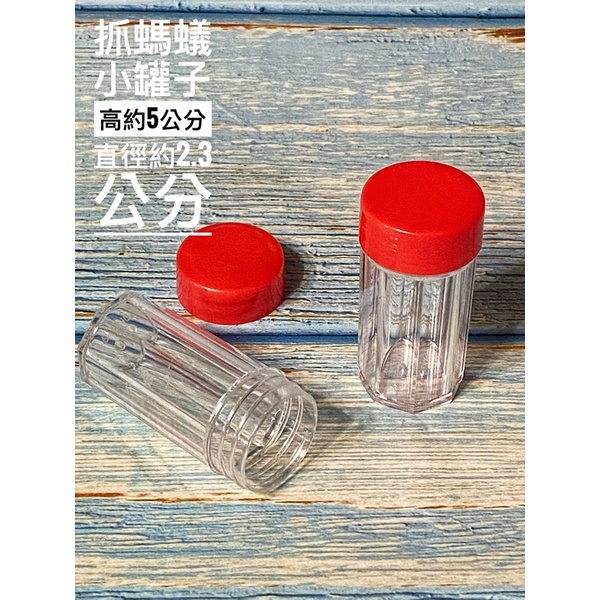medicinejar: (75, 227, 343, 501), (352, 157, 488, 423)
